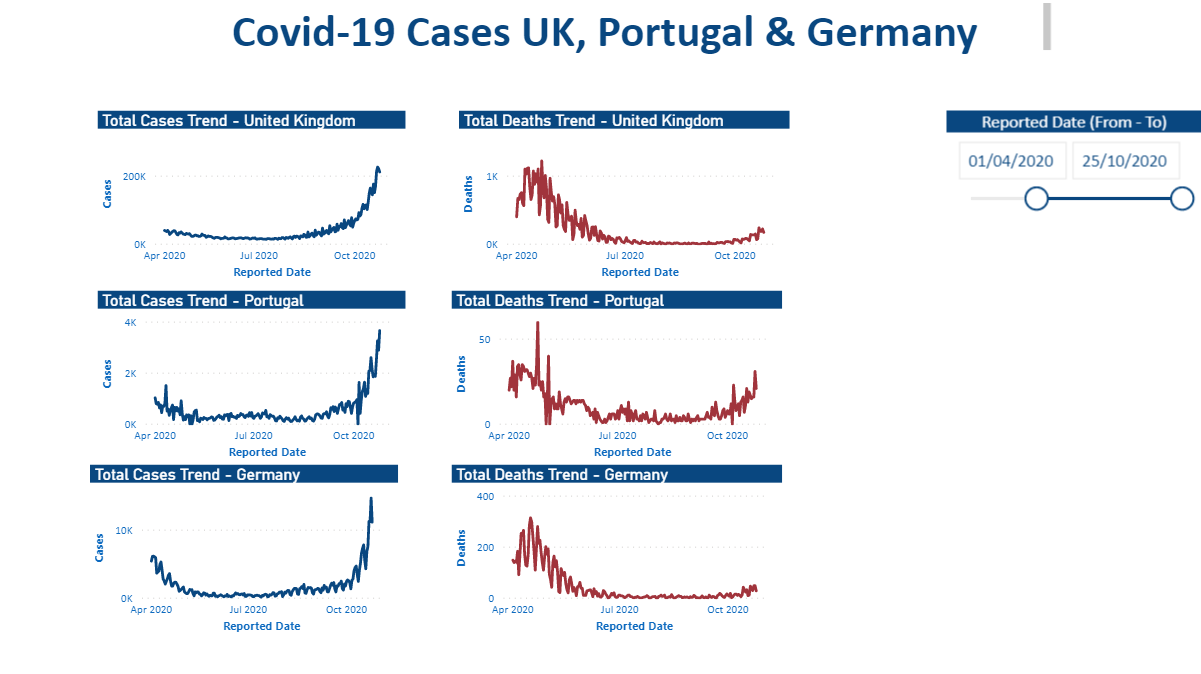

This screenshot's page, from the dashboard's own definition file:
{"tool":"powerbi","page":{"name":"Trends - Country","canvas":[1280,720],"ordinal":1},"visuals":[{"type":"lineChart","title":"Total Cases Trend - United Kingdom","fields":{"Category":["covid_reporting cases_and_deaths.reported_date"],"Y":["Sum(covid_reporting cases_and_deaths.cases_count)"]},"box":[104,120,328,184],"z":0},{"type":"slicer","title":"Reported Date (From - To)","fields":{"Values":["covid_reporting cases_and_deaths.reported_date"]},"box":[1008,120,272,112],"z":1000},{"type":"lineChart","title":"Total Cases Trend - France","fields":{"Category":["covid_reporting cases_and_deaths.reported_date"],"Y":["Sum(covid_reporting cases_and_deaths.cases_count)"]},"box":[104,312,328,184],"z":2000},{"type":"lineChart","title":"Total Cases Trend - Germany","fields":{"Category":["covid_reporting cases_and_deaths.reported_date"],"Y":["Sum(covid_reporting cases_and_deaths.cases_count)"]},"box":[96,496,328,184],"z":3000},{"type":"lineChart","title":"Total Deaths Trend - United Kingdom","fields":{"Category":["covid_reporting cases_and_deaths.reported_date"],"Y":["Sum(covid_reporting cases_and_deaths.deaths_count)"]},"box":[488,120,352,184],"z":4000},{"type":"lineChart","title":"Total Deaths Trend - France","fields":{"Category":["covid_reporting cases_and_deaths.reported_date"],"Y":["Sum(covid_reporting cases_and_deaths.deaths_count)"]},"box":[480,312,352,184],"z":5000},{"type":"lineChart","title":"Total Deaths Trend - Germany","fields":{"Category":["covid_reporting cases_and_deaths.reported_date"],"Y":["Sum(covid_reporting cases_and_deaths.deaths_count)"]},"box":[480,496,352,184],"z":6000},{"type":"textbox","box":[240,0,792,64],"z":7000}]}

Visuals, with their boxes in screenshot pixels (x1, y1, x2, y2), scaled from the page's 1280x720 canvas onto the 1201x674 screenshot:
"Total Cases Trend - United Kingdom" lineChart: <bbox>98, 112, 405, 285</bbox>
"Reported Date (From - To)" slicer: <bbox>946, 112, 1200, 217</bbox>
"Total Cases Trend - France" lineChart: <bbox>98, 292, 405, 464</bbox>
"Total Cases Trend - Germany" lineChart: <bbox>90, 464, 398, 637</bbox>
"Total Deaths Trend - United Kingdom" lineChart: <bbox>458, 112, 788, 285</bbox>
"Total Deaths Trend - France" lineChart: <bbox>450, 292, 781, 464</bbox>
"Total Deaths Trend - Germany" lineChart: <bbox>450, 464, 781, 637</bbox>
textbox: <bbox>225, 0, 968, 60</bbox>
